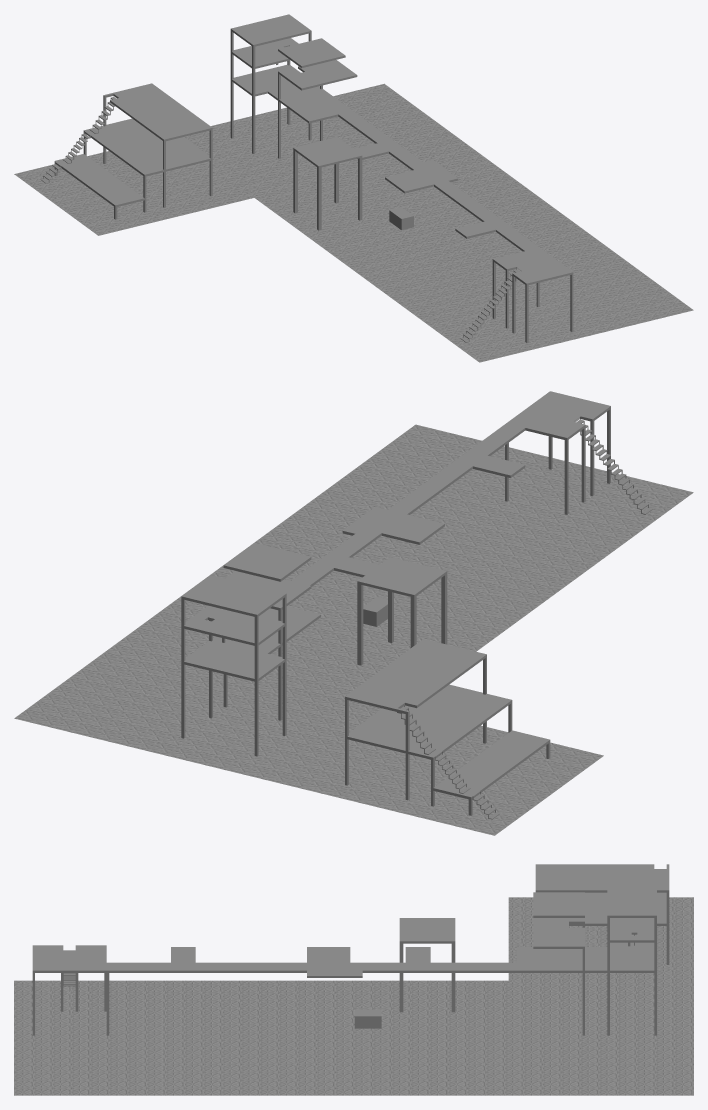
3 renders of one model, top to bottom at view 1: azimuth 30°, elevation 25°; view 2: azimuth 150°, elevation 25°; view 3: azimuth 270°, elevation 25°, orthographic. The views are drawn at different scales.
Visible parts, largest first — view 1: root.001, root; view 2: root.001, root; view 3: root.001, root.
Part boxes in pixels (x1=…): root.001: x1=14, y1=83, x2=693, y2=362; root: x1=40, y1=14, x2=573, y2=342; root.001: x1=14, y1=424, x2=693, y2=835; root: x1=181, y1=391, x2=652, y2=819; root.001: x1=14, y1=897, x2=693, y2=1095; root: x1=32, y1=864, x2=669, y2=1035.
Bounding box in the file's own units: 38 × 10.7 × 55.
Materials: 2 (2 with a texture image).
